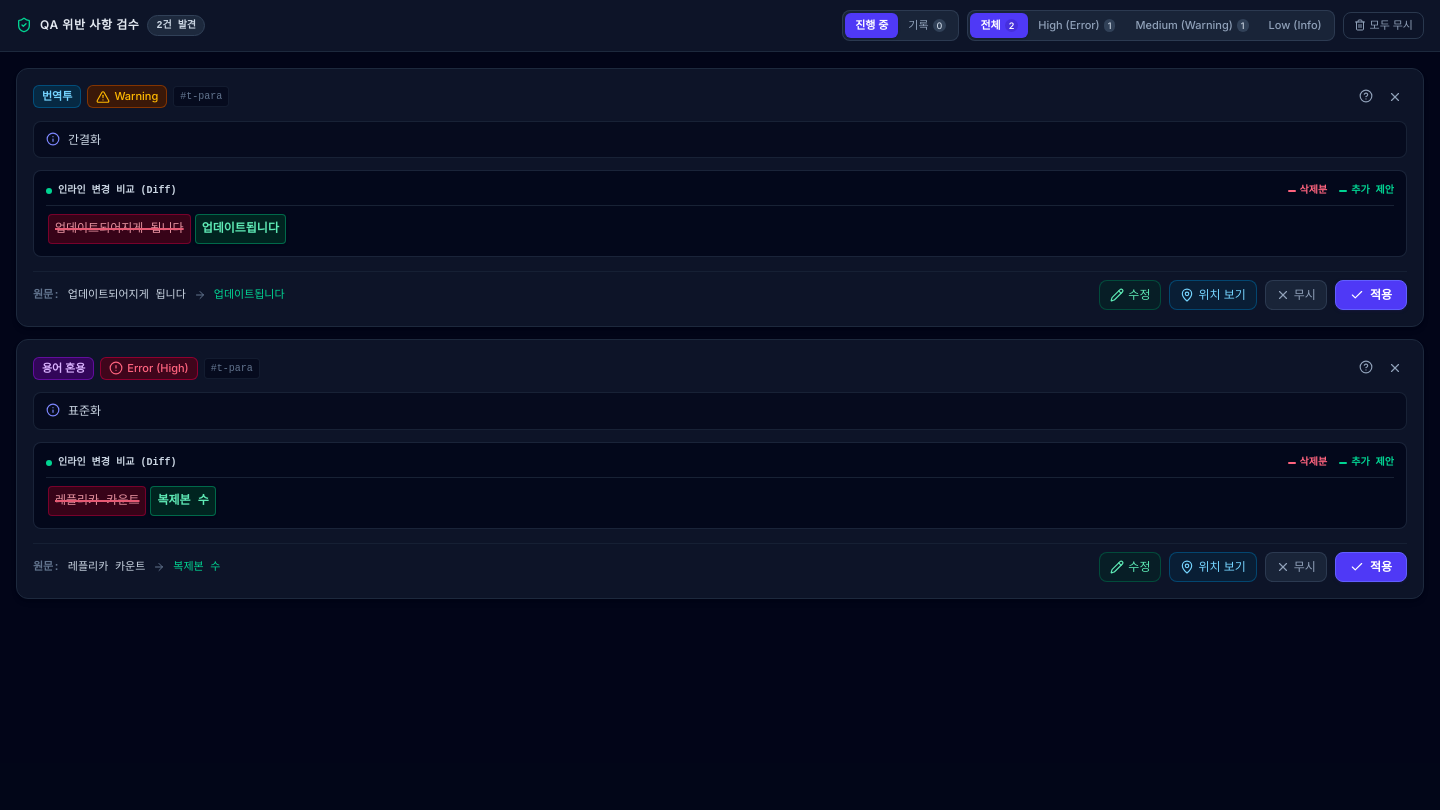
Test case: QACardList Component › filters cards dynamically by severity pills
Expected: the element with test id "qa-card-item-c-high" is shown, [16, 339, 1424, 599]
Expected: the element with test id "qa-card-item-c-med" is shown, [16, 68, 1424, 327]
// Click High (Error) filter
What coordinates should you click on to do the following:
click the button with test id "filter-high"
I would click on:
 (1077, 25)
Its box is [1028, 13, 1126, 38].
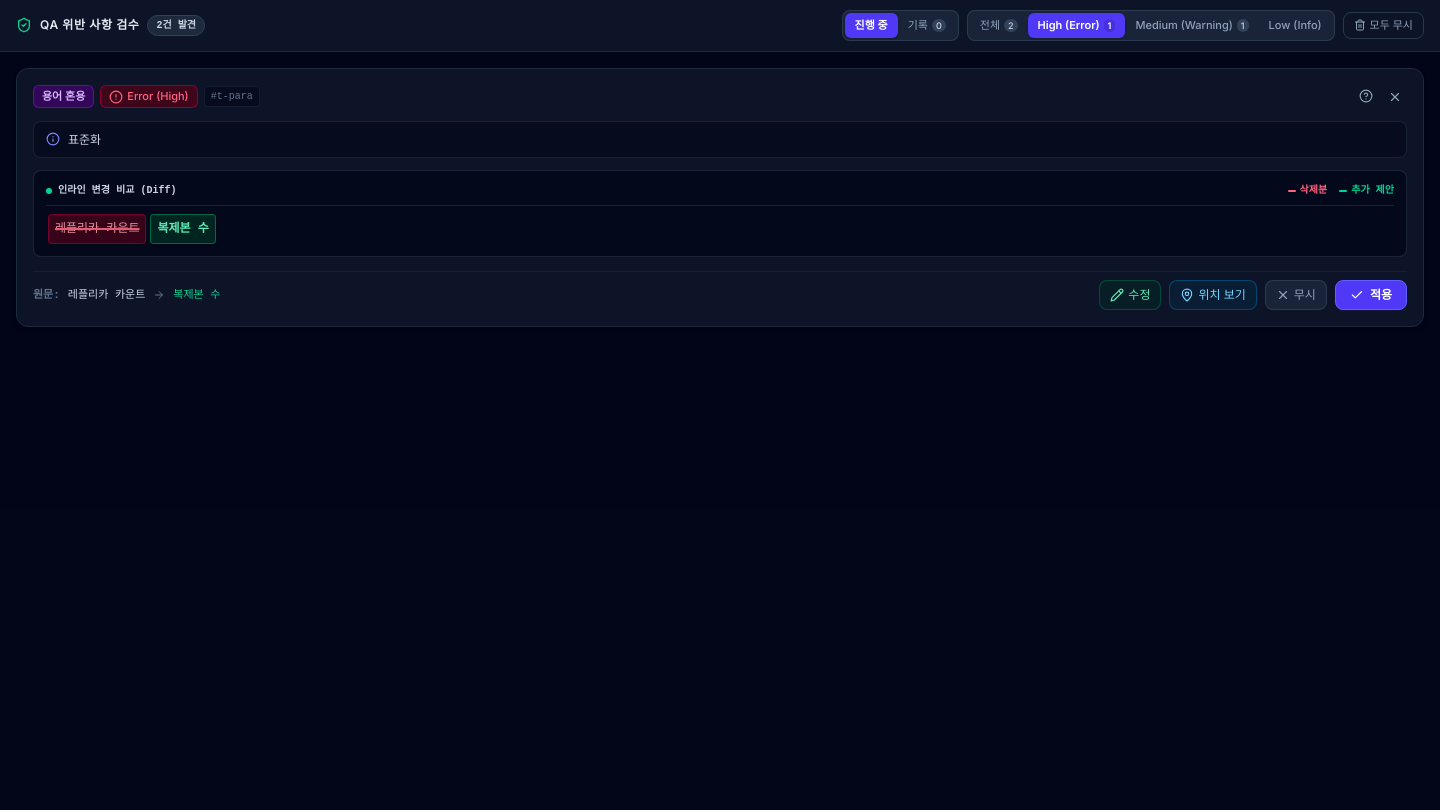
Expected: the element with test id "qa-card-item-c-high" is shown, [16, 68, 1424, 327]
Expected: the element with test id "qa-card-item-c-med" is gone
// Click Medium (Warning) filter
What coordinates should you click on to do the following:
click the button with test id "filter-medium"
I would click on:
 (1192, 25)
Its box is [1125, 13, 1259, 38].
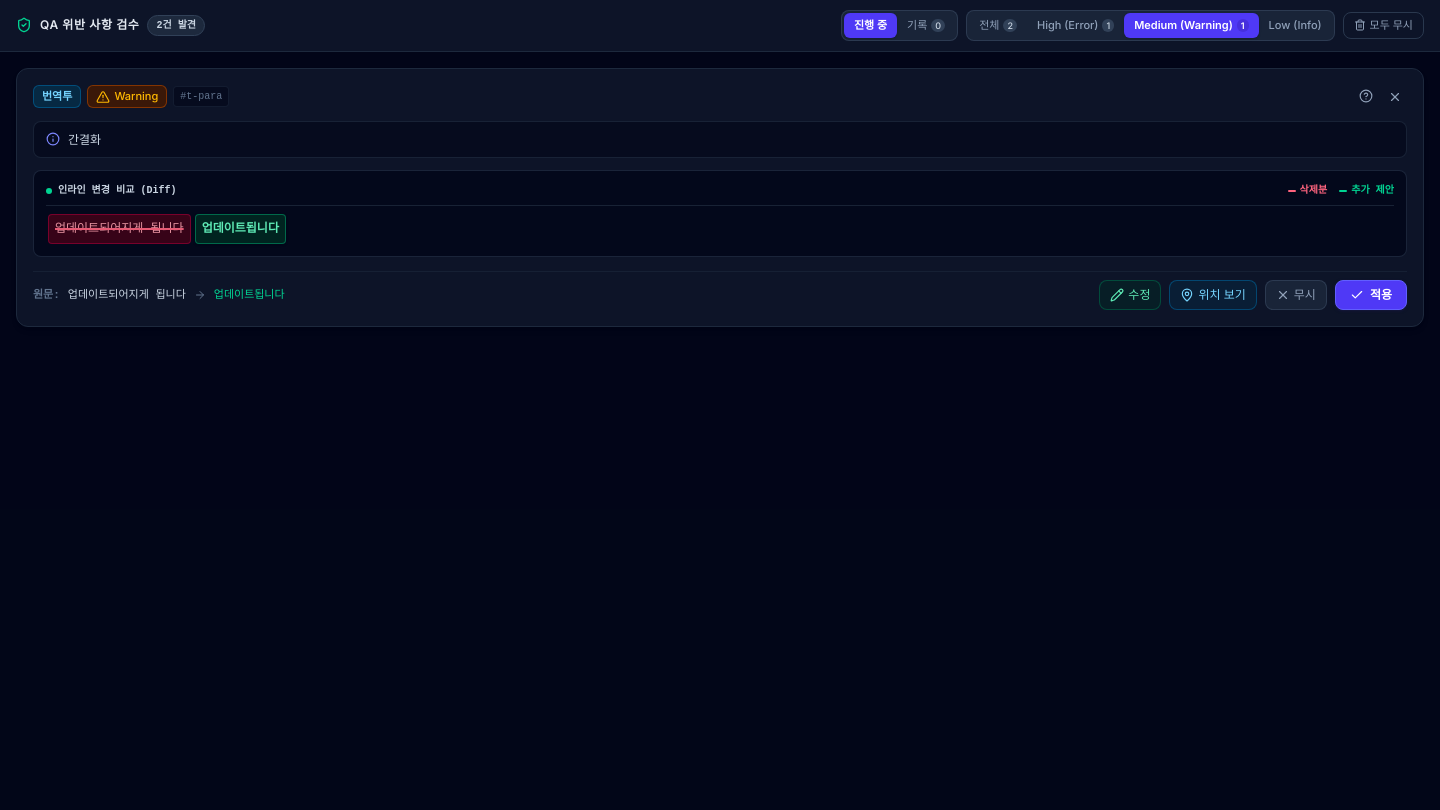
Expected: the element with test id "qa-card-item-c-high" is gone
Expected: the element with test id "qa-card-item-c-med" is shown, [16, 68, 1424, 327]
// Click Low (Info) filter (0 cards)
What coordinates should you click on to do the following:
click the button with test id "filter-low"
I would click on:
 (1295, 25)
Its box is [1259, 13, 1332, 38].
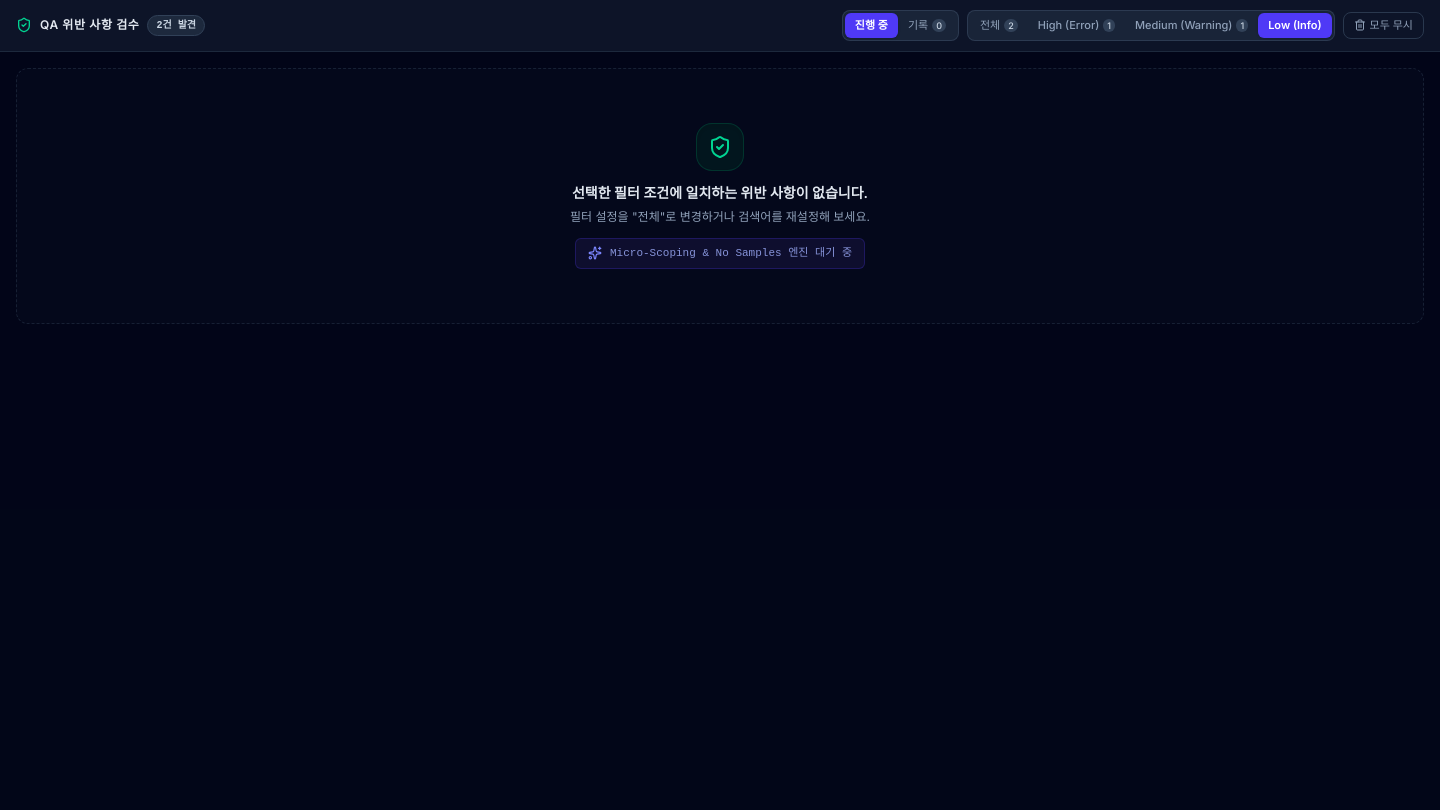
Expected: the element with test id "qa-card-item-c-med" is gone
Expected: the heading "선택한 필터 조건에 일치하는 위반 사항이 없습니다." is shown, [572, 182, 868, 202]
